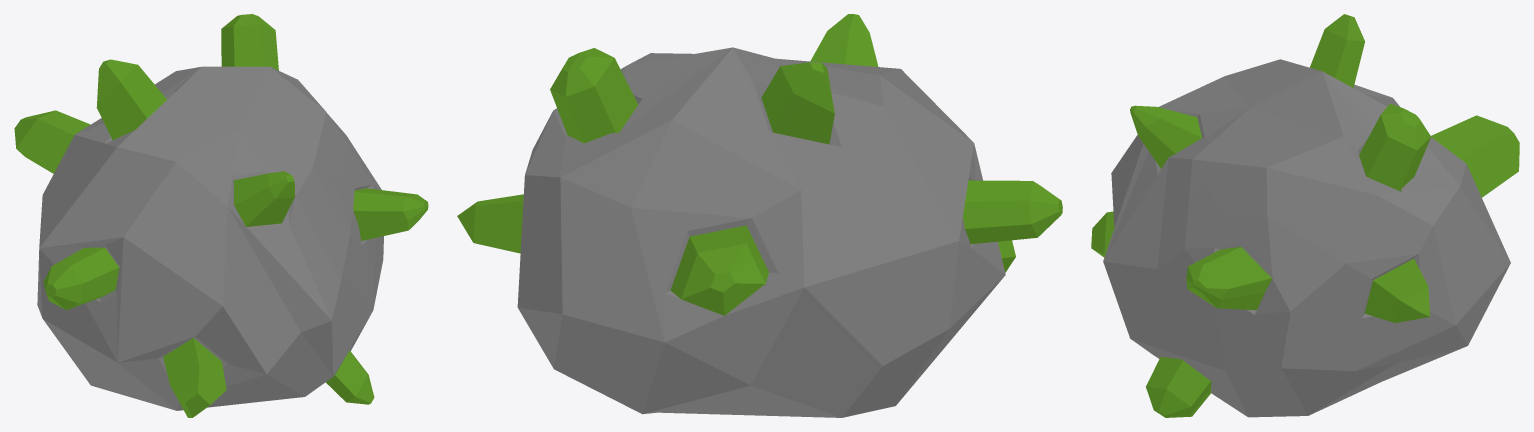
Rendered from mining_PP_Rock_Gem_02_Green.gltf.
3 views of the same model, side by side, from view 1: azimuth 30°, elevation 25°; view 2: azimuth 150°, elevation 25°; view 3: azimuth 270°, elevation 25° (orthographic). The views are drawn at different scales.
Visible parts, largest first — view 1: PP_Rock_Gem_02_Green; view 2: PP_Rock_Gem_02_Green; view 3: PP_Rock_Gem_02_Green.
Part boxes in pixels (x1=…): PP_Rock_Gem_02_Green: x1=14, y1=14, x2=428, y2=417; PP_Rock_Gem_02_Green: x1=457, y1=14, x2=1062, y2=417; PP_Rock_Gem_02_Green: x1=1091, y1=14, x2=1519, y2=417.
Size of the model in its own units: 2.21 by 1.68 by 2.05.
1 material, 1 textured.
